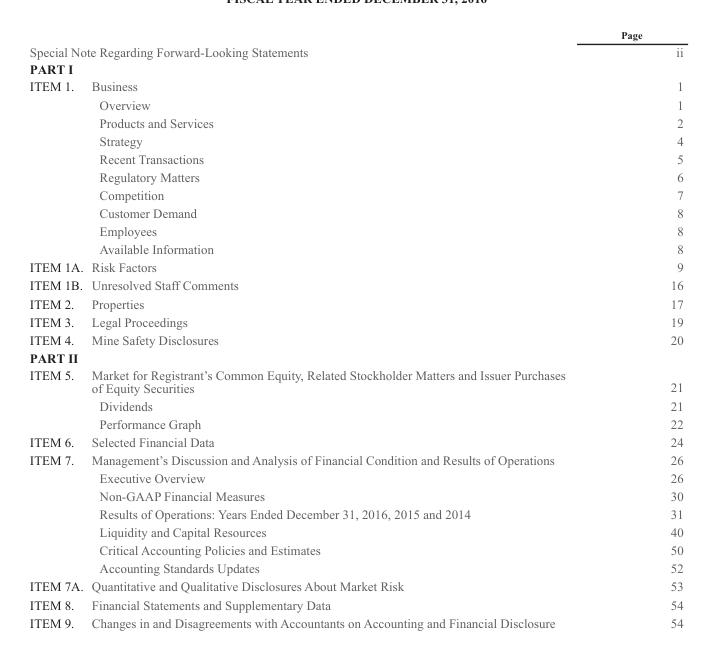table: (28, 28, 682, 629)
table column: (86, 28, 592, 629), (592, 28, 682, 629), (28, 28, 86, 629)
table column header: (28, 28, 682, 60)
table projected row header: (28, 60, 682, 77), (28, 348, 682, 365)
table row: (28, 28, 682, 60), (28, 365, 682, 396), (28, 257, 682, 276), (28, 540, 682, 559), (28, 77, 682, 95), (28, 95, 682, 113), (28, 113, 682, 131), (28, 131, 682, 149), (28, 149, 682, 167), (28, 167, 682, 185), (28, 185, 682, 203), (28, 203, 682, 221), (28, 221, 682, 239), (28, 239, 682, 257), (28, 276, 682, 294), (28, 294, 682, 312), (28, 312, 682, 330), (28, 330, 682, 348), (28, 396, 682, 414), (28, 414, 682, 432), (28, 432, 682, 450), (28, 450, 682, 468), (28, 468, 682, 486), (28, 486, 682, 504), (28, 504, 682, 522), (28, 522, 682, 540), (28, 559, 682, 577), (28, 577, 682, 595), (28, 595, 682, 613), (28, 60, 682, 77), (28, 348, 682, 365), (28, 613, 682, 629)
table spanning cell: (28, 28, 592, 60), (28, 77, 86, 257), (28, 450, 86, 577), (28, 365, 86, 432)
